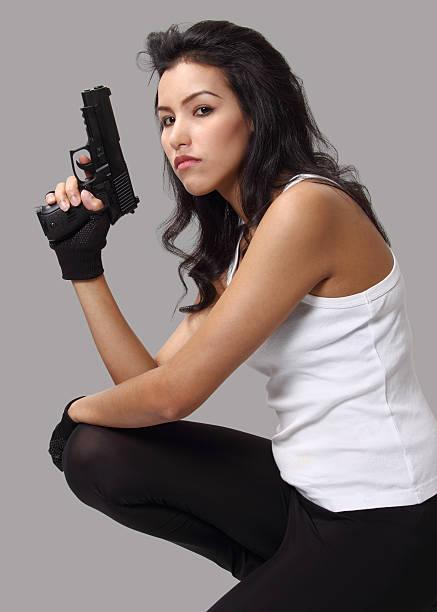weapon: (35, 83, 143, 246)
